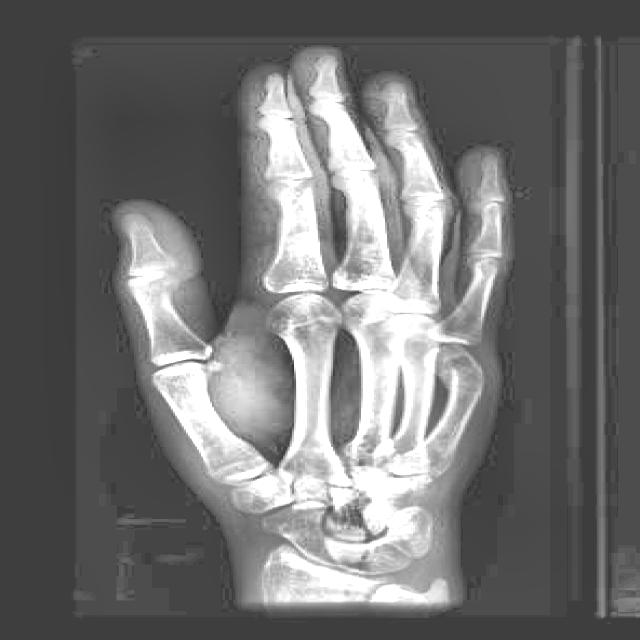fracture: (437, 364, 480, 394)
